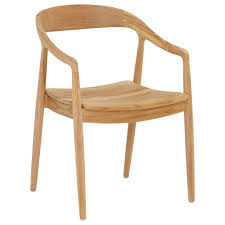tiyarina: (25, 4, 204, 221)
